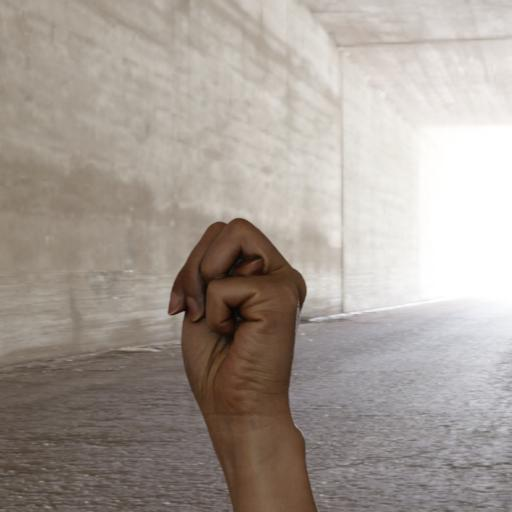M: (147, 208, 370, 512)
